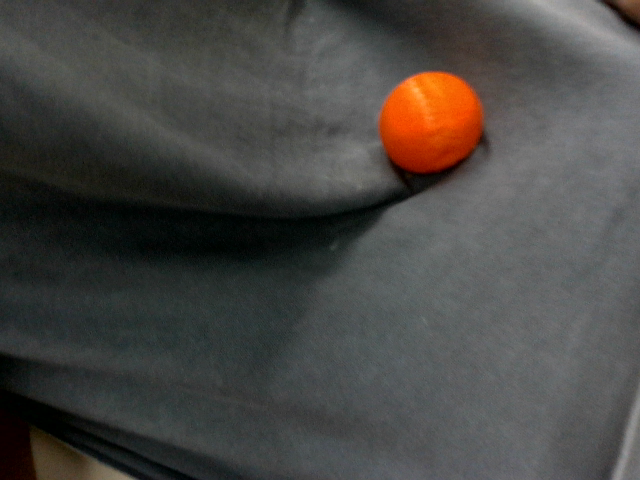orange: (359, 52, 501, 190)
